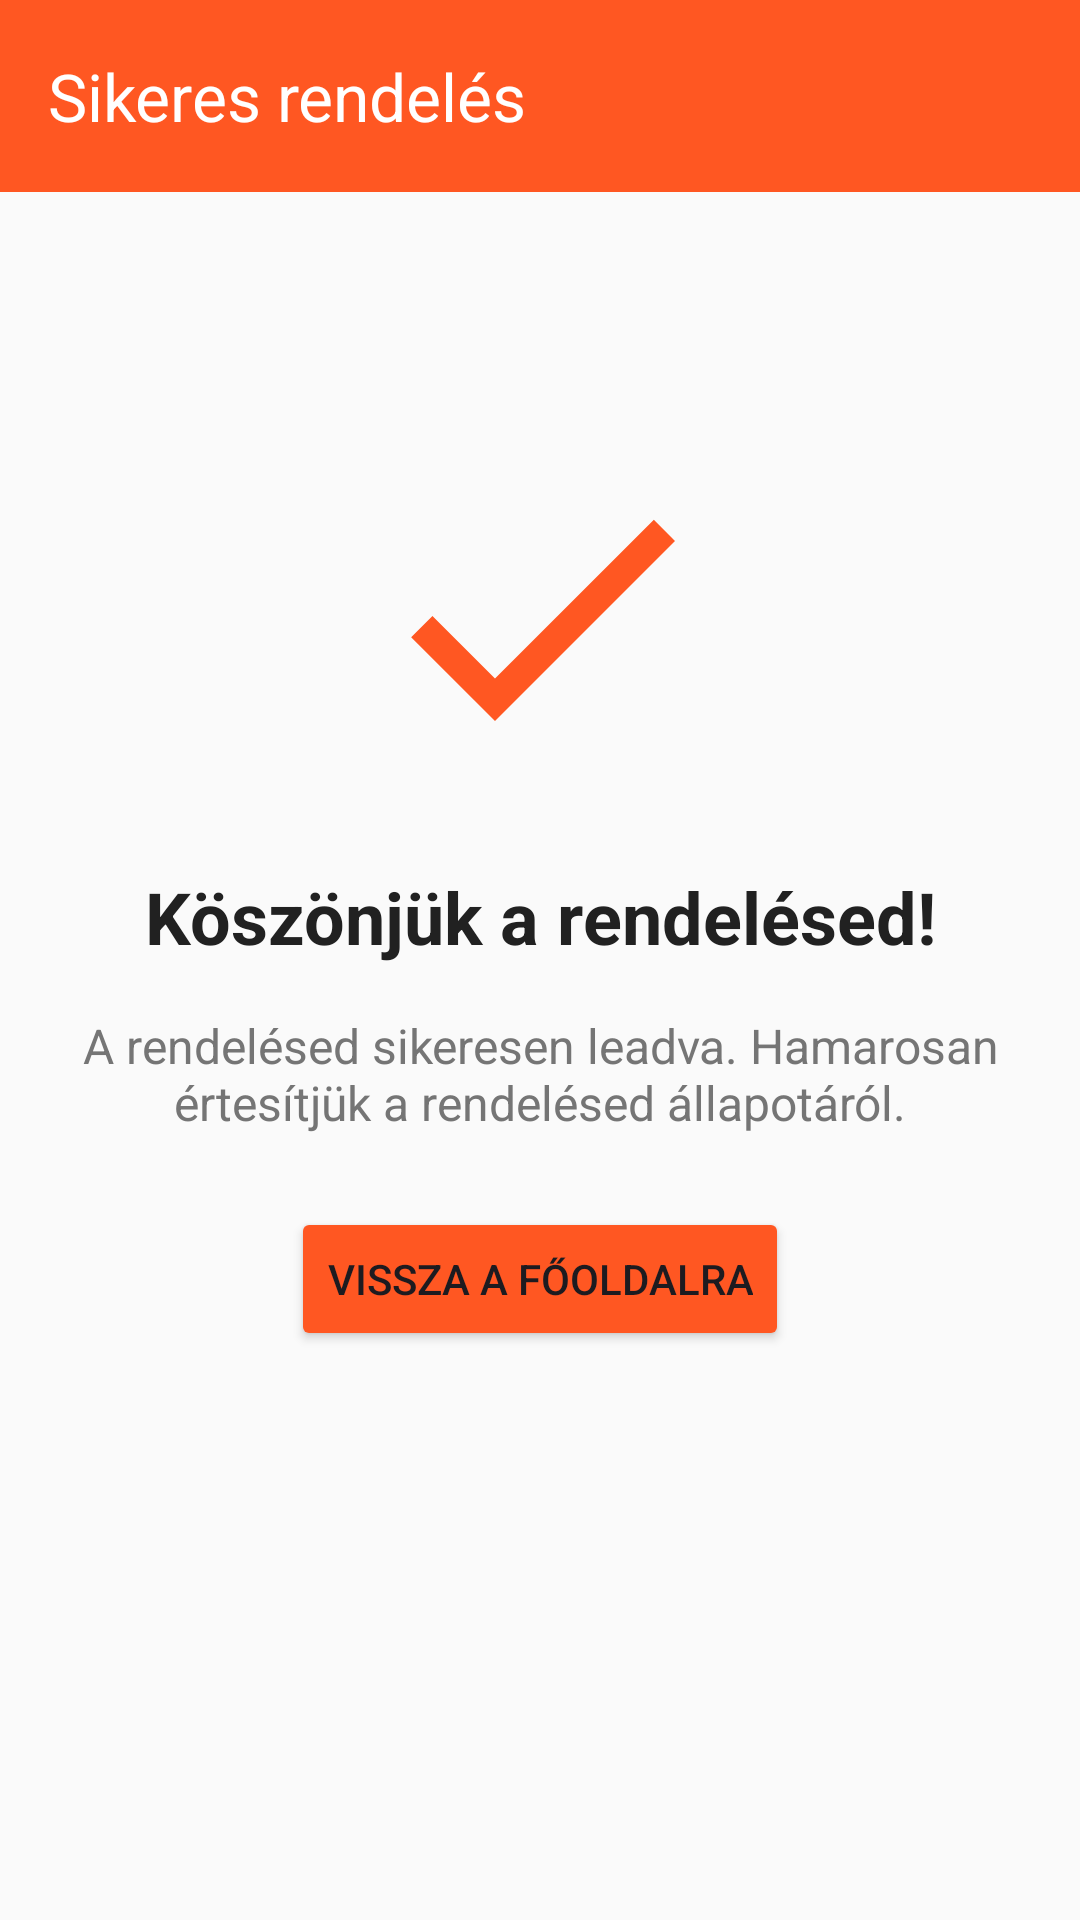

Icons on this 1080×1920 Android screen, each with its box as (x1, y1, x2, y2):
Sikeres rendelés: (411, 520, 675, 721)
